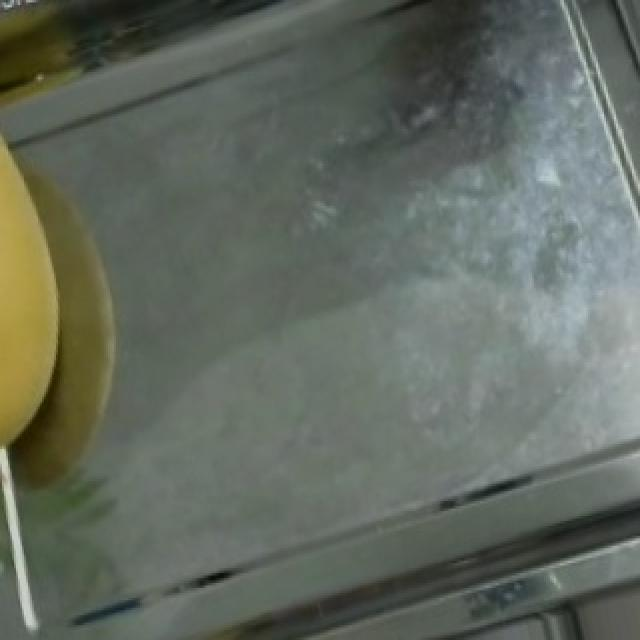fruit: (0, 94, 136, 474)
